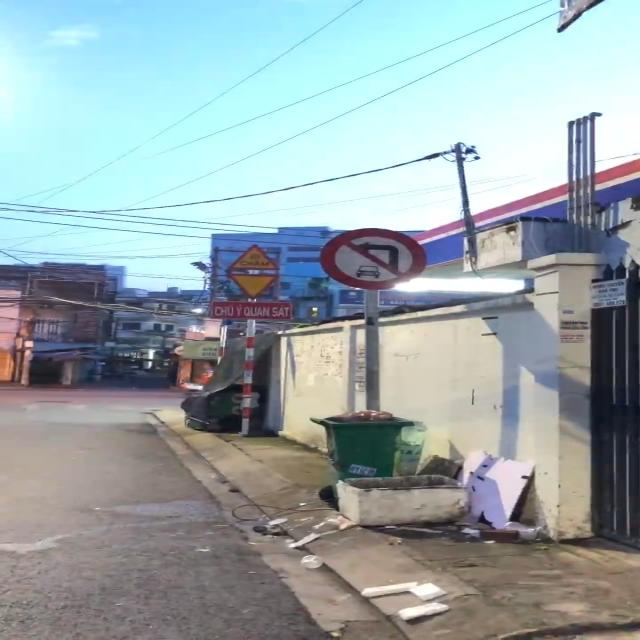Bien bao cam xe o to re trai: (316, 226, 436, 292)
Bien bao di cham: (222, 242, 291, 272)
Bien bao giao nhau voi duong uu tien: (225, 272, 281, 300)
